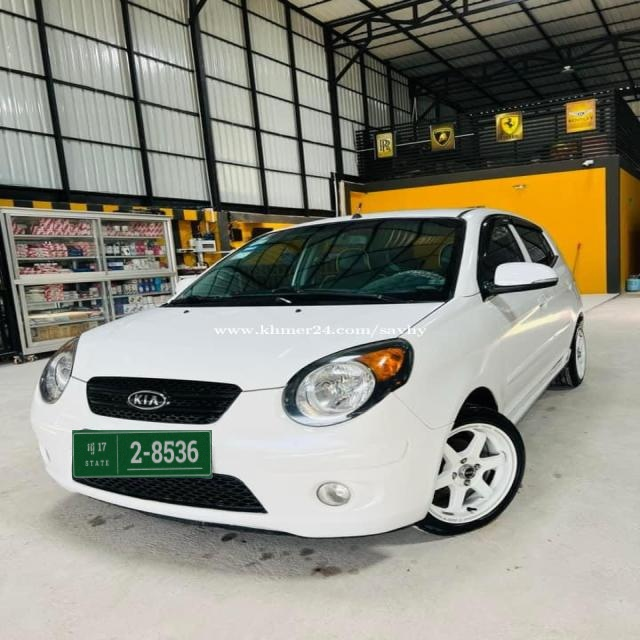Plate Number: (73, 431, 212, 478)
